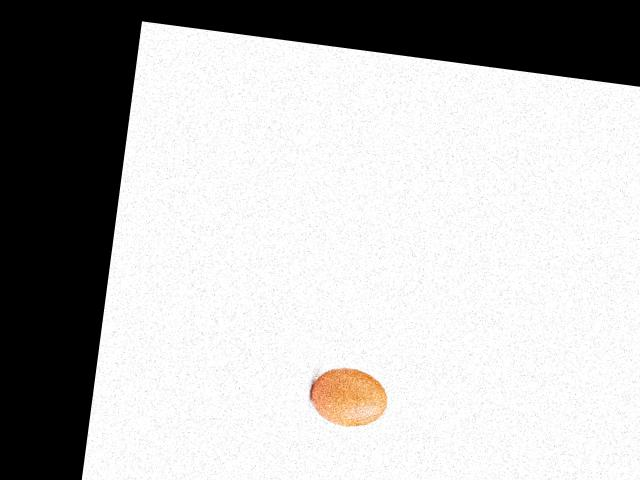egg: (308, 363, 390, 430)
